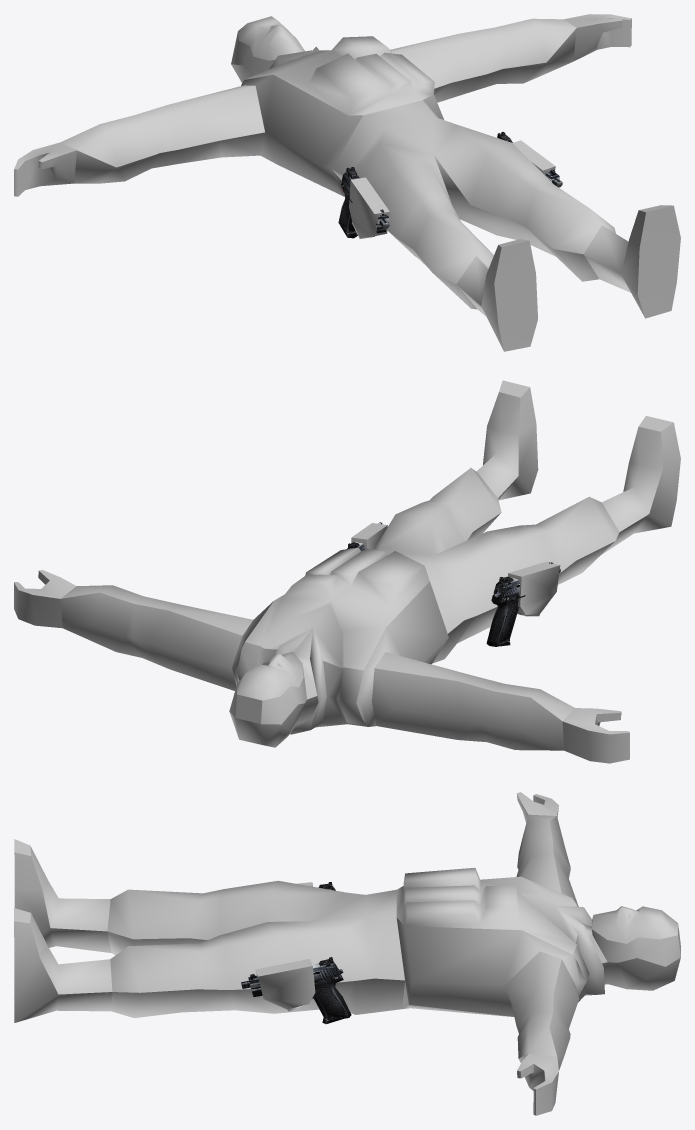
The model's file is Soldier_Mask05.obj.
The picture shows the model from 3 angles, top to bottom: view 1: azimuth 30°, elevation 25°; view 2: azimuth 150°, elevation 25°; view 3: azimuth 270°, elevation 25°; orthographic projection.
Visible parts, largest first — view 1: (null); view 2: (null); view 3: (null).
Boxes of the visible parts, x1,y1,x2,y2 form: (null): (14, 14, 680, 351); (null): (14, 380, 680, 763); (null): (14, 792, 680, 1115).
Size of the model in its own units: 72.7 by 14.92 by 69.28.
